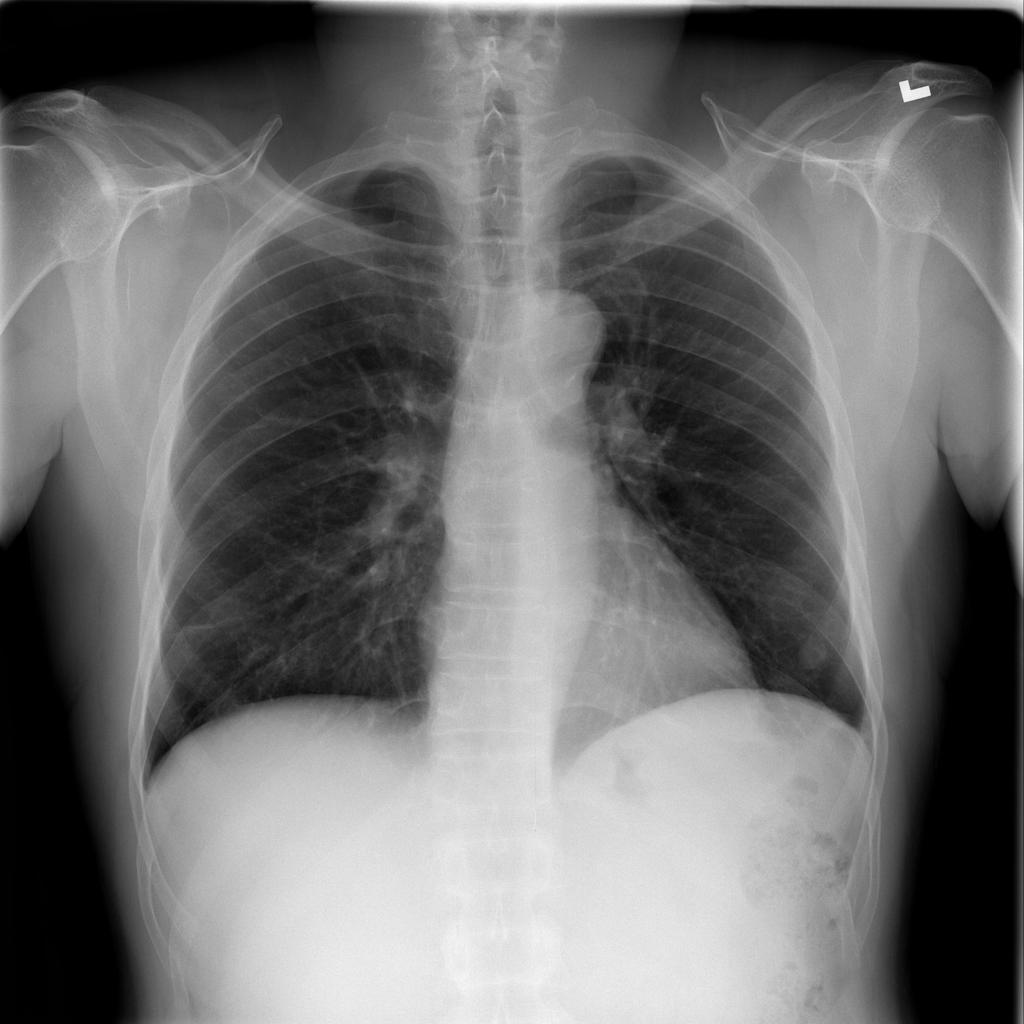nodule: (786, 624, 838, 676)
